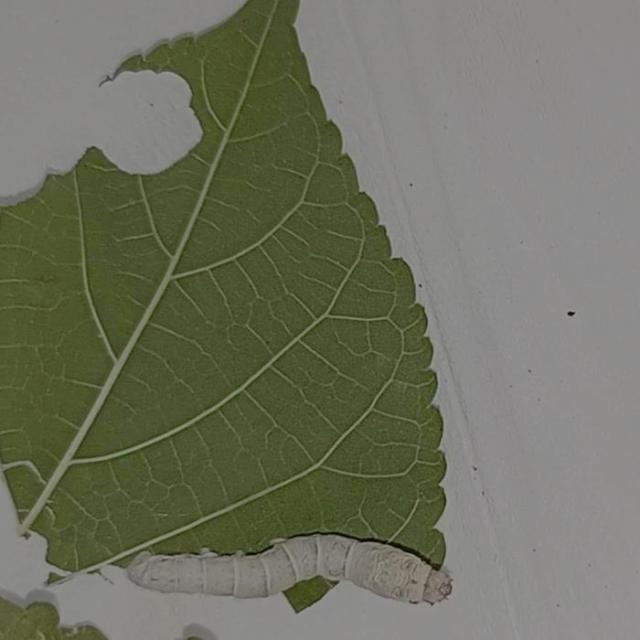Healthy: (115, 514, 470, 630)
